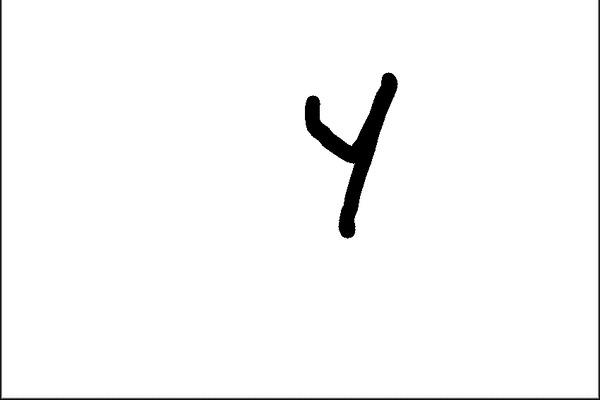Y: (289, 58, 421, 249)
